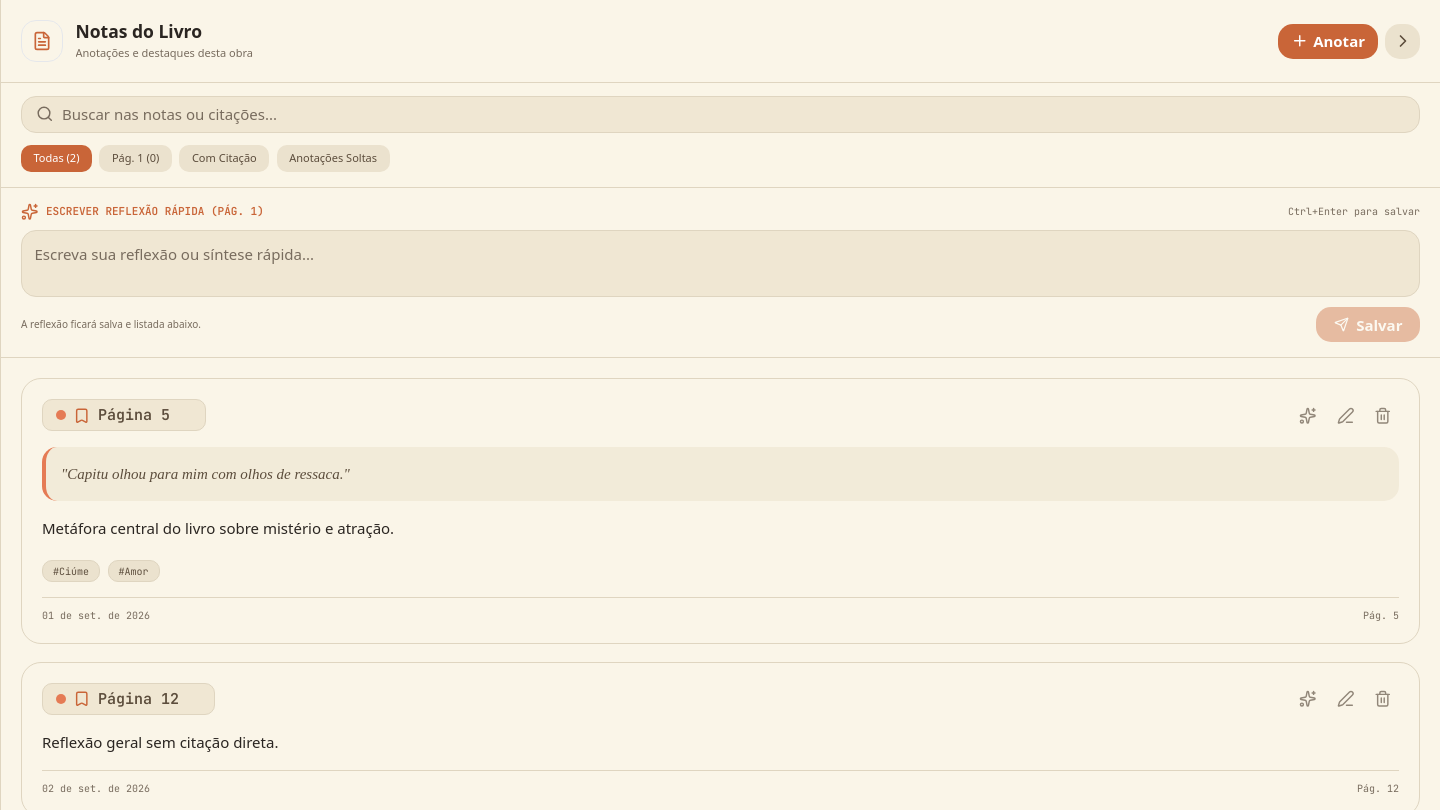
Test: ReaderBookNotesPanel Component › filtra notas pelo campo de busca
Type "Capitu" into the field with placeholder "Buscar nas notas ou citações..." at [720, 114], box x1=21 y1=96 x2=1420 y2=132
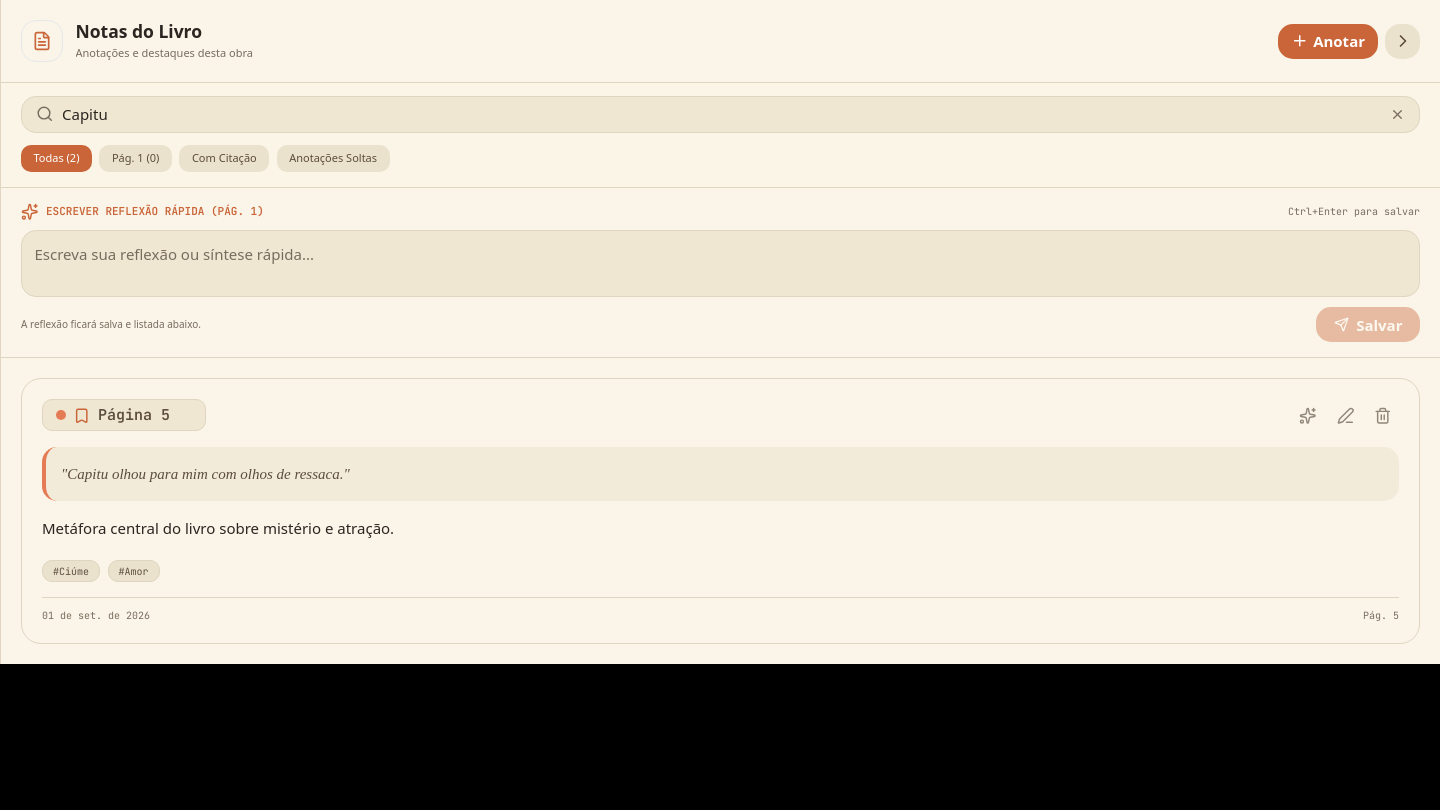
Expected: the text "Capitu olhou para mim" is shown, x1=61 y1=466 x2=350 y2=482
Now the text "Reflexão geral sem citação direta." is gone
Replace the text in the field with placeholder "Buscar nas notas ou citações..." with "termo_inexistente_xyz" at [720, 114], box x1=21 y1=96 x2=1420 y2=132
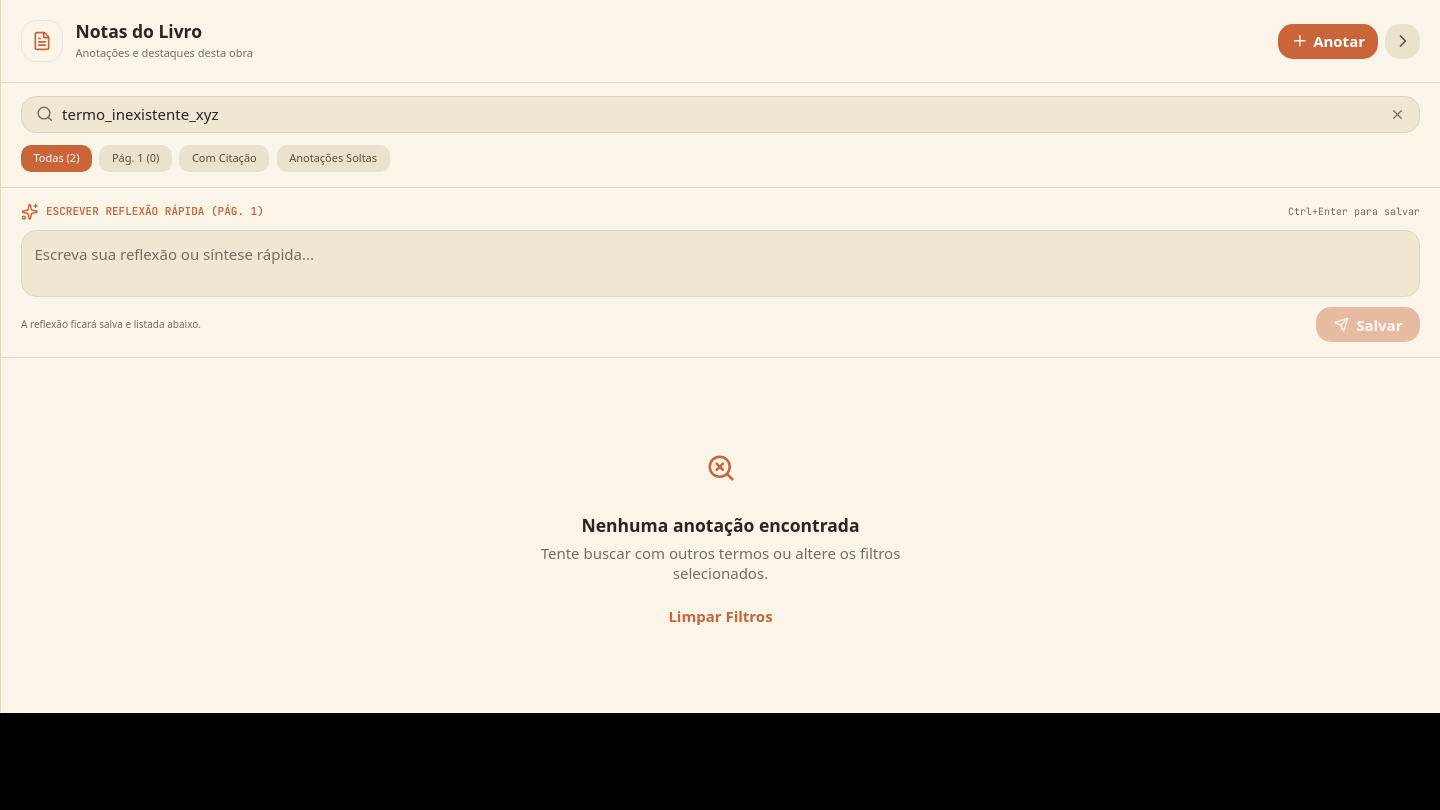
Now the text "Nenhuma anotação encontrada" is shown, box x1=582 y1=513 x2=860 y2=537
